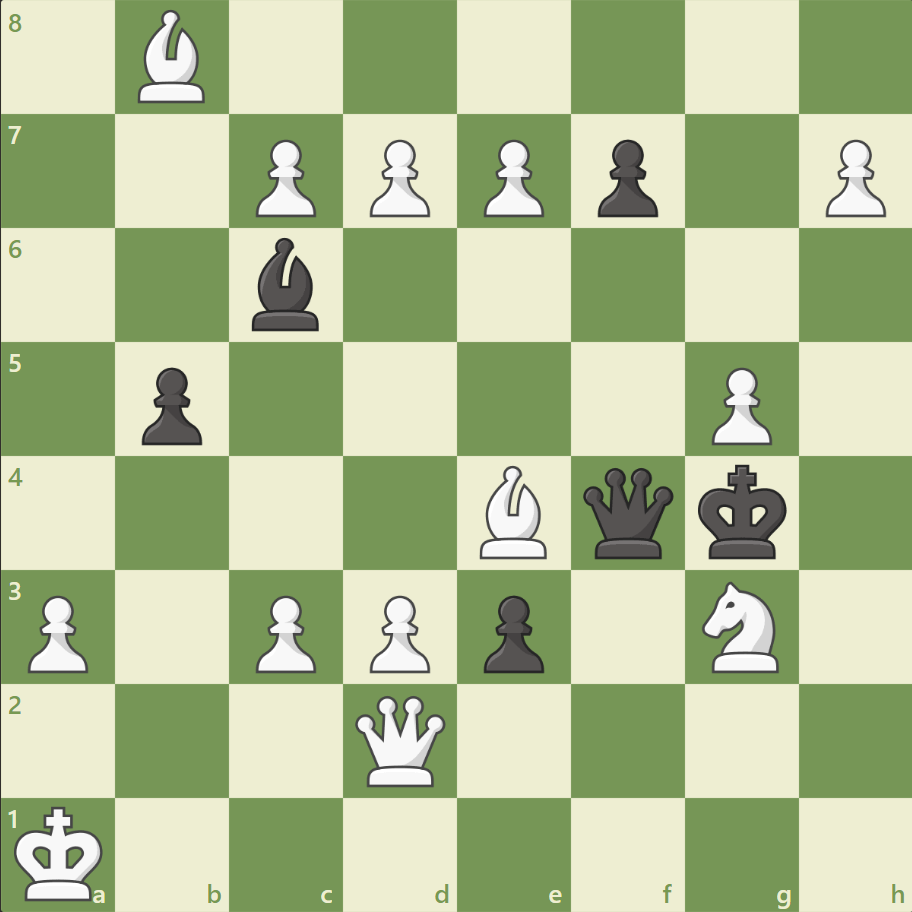B: (131, 6, 215, 109), (471, 460, 555, 563)
K: (11, 798, 111, 906)
N: (692, 575, 789, 677)
P: (247, 132, 322, 223), (474, 132, 549, 223), (701, 359, 776, 450), (20, 586, 95, 677), (247, 586, 322, 677), (361, 132, 435, 223), (815, 132, 889, 223), (361, 586, 435, 677)
Q: (351, 690, 450, 789)
b: (244, 233, 328, 336)
k: (692, 458, 792, 566)
p: (133, 359, 208, 450), (474, 586, 549, 677), (588, 132, 662, 223)
q: (578, 463, 677, 562)
